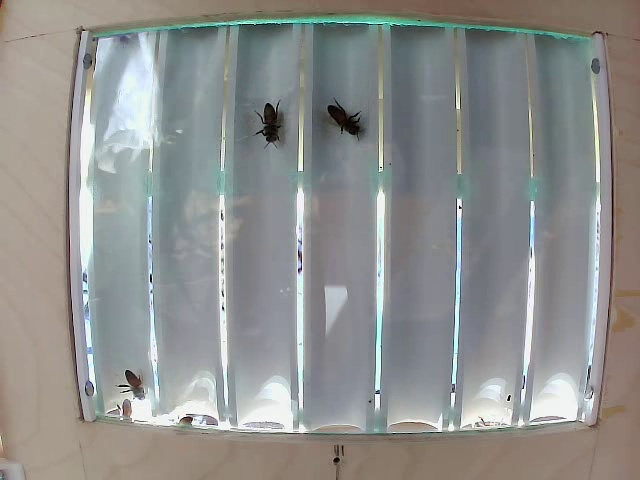bee: (323, 96, 383, 157), (252, 93, 295, 167)
